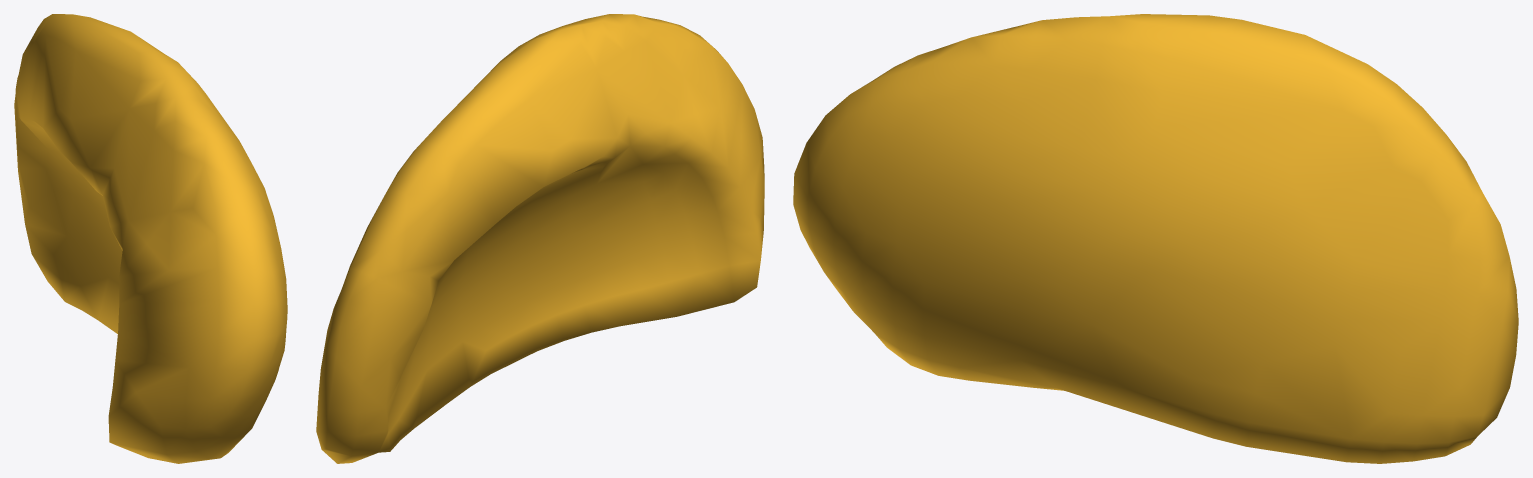
The model's file is nervoso-putamen-l.glb.
3 renders of one model, left to right at view 1: azimuth 30°, elevation 25°; view 2: azimuth 150°, elevation 25°; view 3: azimuth 270°, elevation 25°, orthographic. The views are drawn at different scales.
Parts seen in each view (by area): view 1: Putamen.l; view 2: Putamen.l; view 3: Putamen.l.
Boxes of the visible parts, bbox=[...] form: Putamen.l: bbox=[14, 14, 287, 463]; Putamen.l: bbox=[316, 14, 764, 463]; Putamen.l: bbox=[793, 14, 1518, 463].
Bounding box in the file's own units: 0.0176 × 0.0252 × 0.0416.
